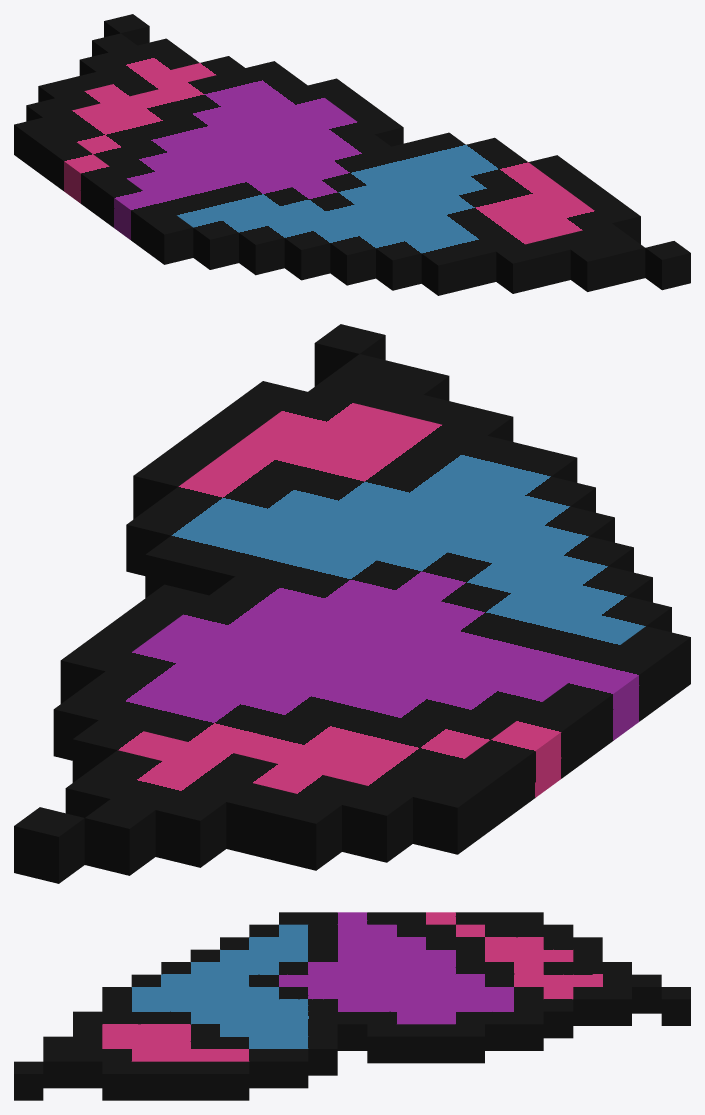
The model's file is butterfly_wing_left.dae.
The picture shows the model from 3 angles, top to bottom: view 1: azimuth 30°, elevation 25°; view 2: azimuth 150°, elevation 25°; view 3: azimuth 270°, elevation 25°; orthographic projection. The views are drawn at different scales.
Parts seen in each view (by area): view 1: butterfly_wing_left; view 2: butterfly_wing_left; view 3: butterfly_wing_left.
Part boxes in pixels (x1,y1,x2,y2): butterfly_wing_left: (14, 14, 690, 295); butterfly_wing_left: (14, 324, 690, 883); butterfly_wing_left: (14, 912, 690, 1100).
Bounding box in the file's own units: 1.3 × 2.3 × 0.1.
Materials: 1 (1 with a texture image).
